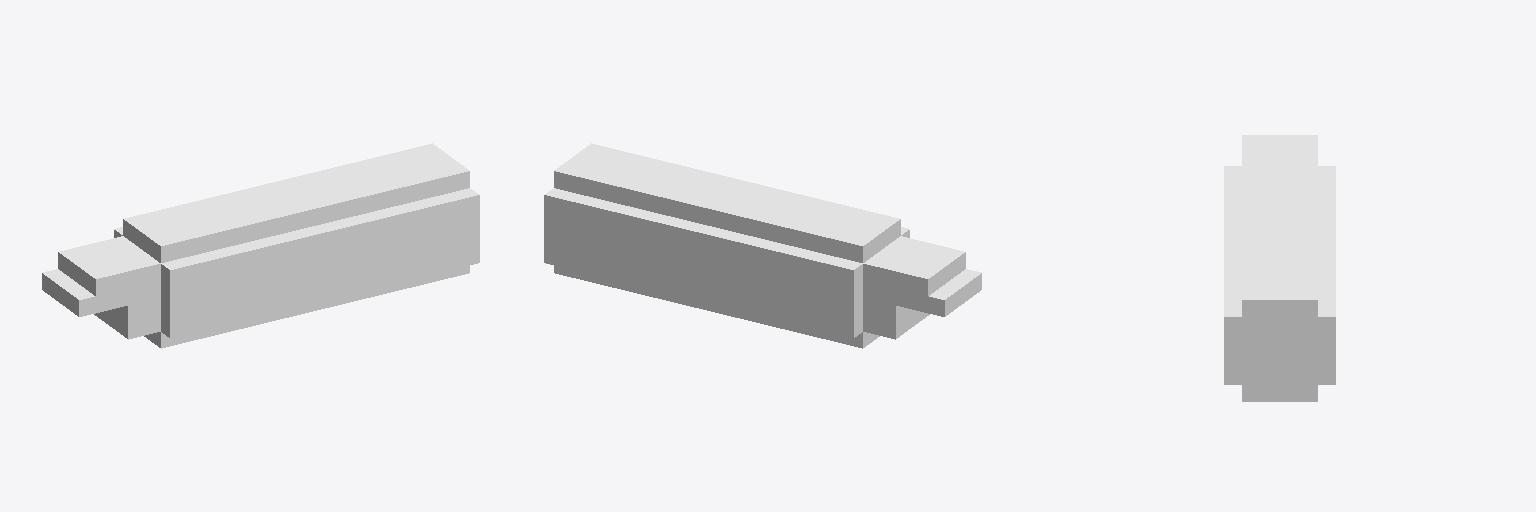
The model's file is granny_right_arm.obj.
3 views of the same model, side by side, from view 1: azimuth 30°, elevation 25°; view 2: azimuth 150°, elevation 25°; view 3: azimuth 270°, elevation 25° (orthographic).
Visible parts, largest first — view 1: object 1; view 2: object 1; view 3: object 1.
Boxes of the visible parts, <box> form: object 1: <box>42,143,479,348</box>; object 1: <box>544,143,981,348</box>; object 1: <box>1224,135,1335,401</box>.
Size of the model in its own units: 2.4 by 0.6 by 0.6.